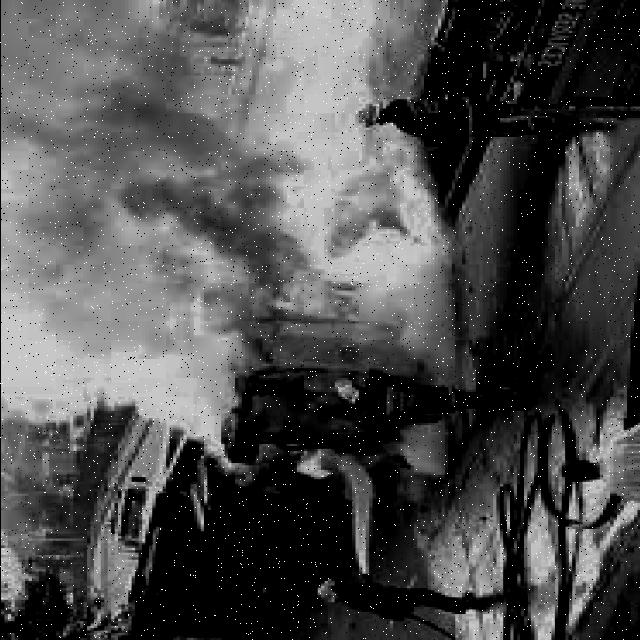api: (177, 166, 404, 332), (269, 431, 345, 493)
